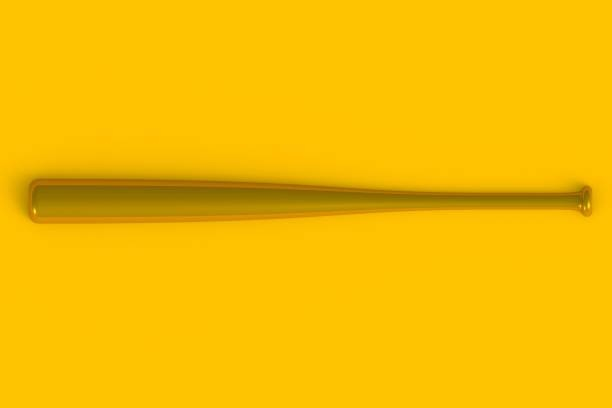bita: (26, 180, 604, 222)
